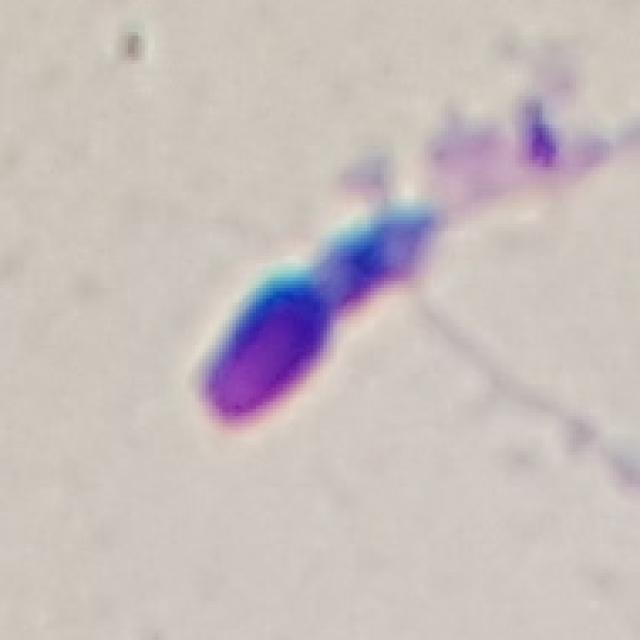abnormal sperm: (190, 167, 513, 425)
